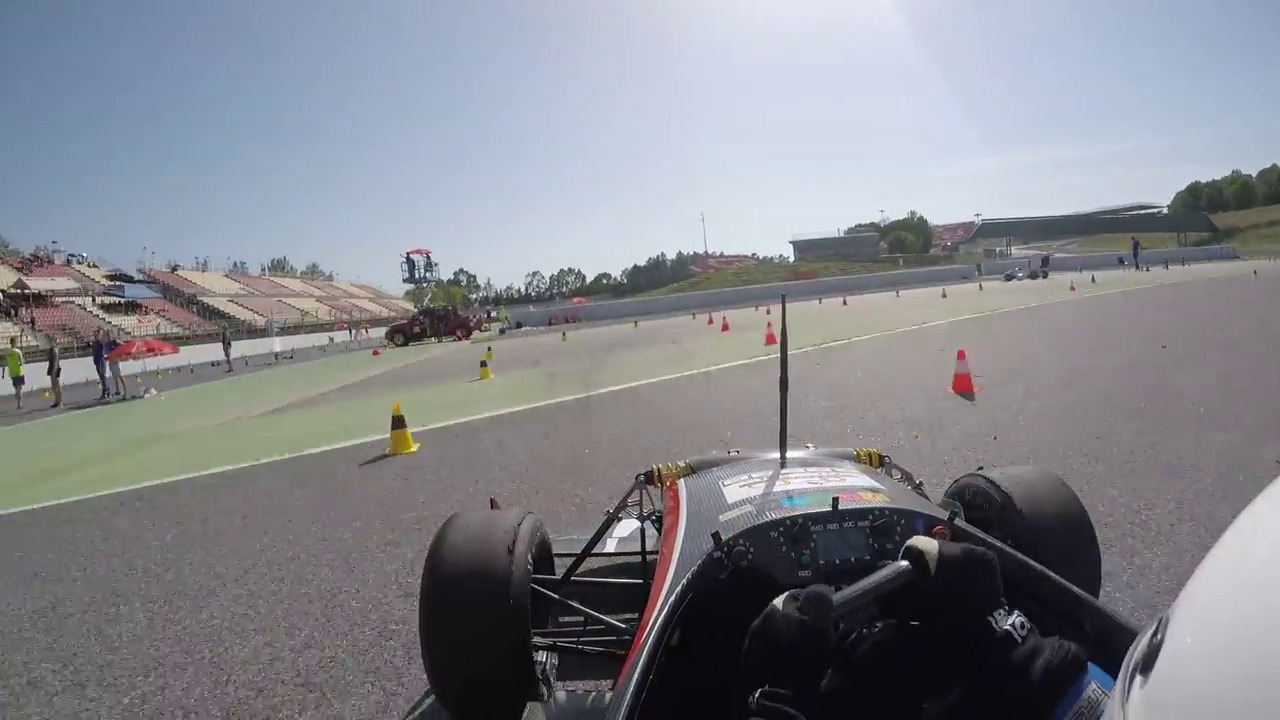Cone: (385, 398, 417, 461), (948, 349, 981, 395)
